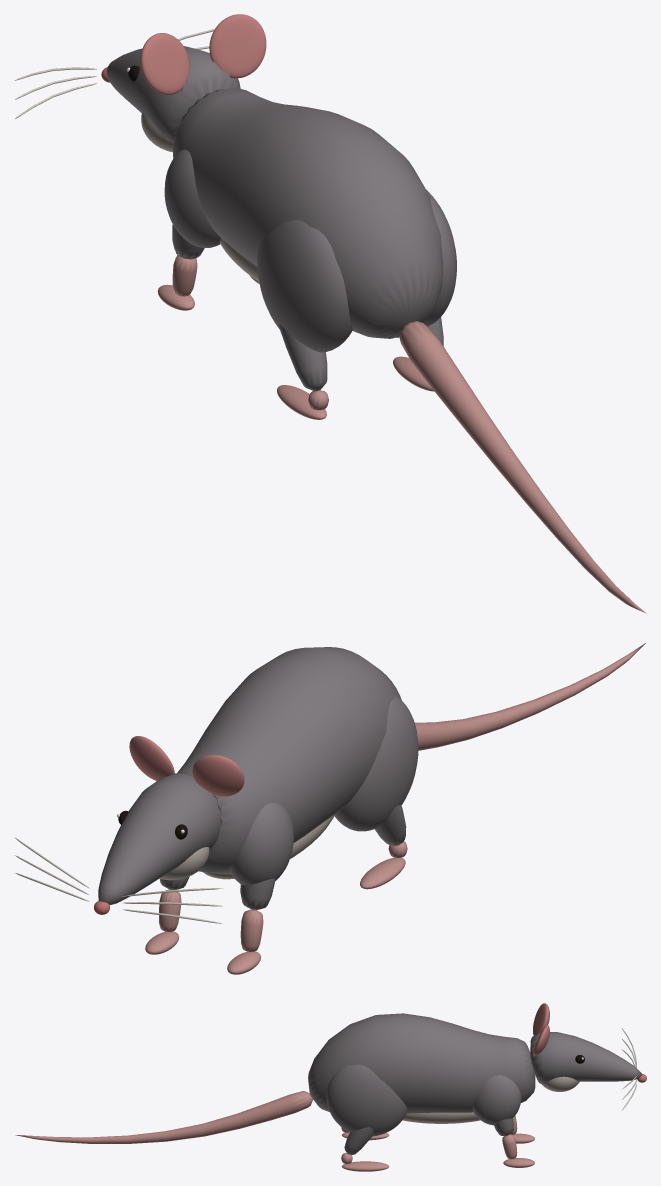
File: rats_detail.glb
3 views of the same model, one above another, from view 1: azimuth 30°, elevation 25°; view 2: azimuth 150°, elevation 25°; view 3: azimuth 270°, elevation 25° (orthographic). The views are drawn at different scales.
Parts seen in each view (by area): view 1: Detail; view 2: Detail; view 3: Detail.
Boxes of the visible parts, x1,y1,x2,y2 form: Detail: (14,14,646,613); Detail: (14,643,645,974); Detail: (15,1003,646,1171).
Size of the model in its own units: 0.2258 by 0.2359 by 0.972.
